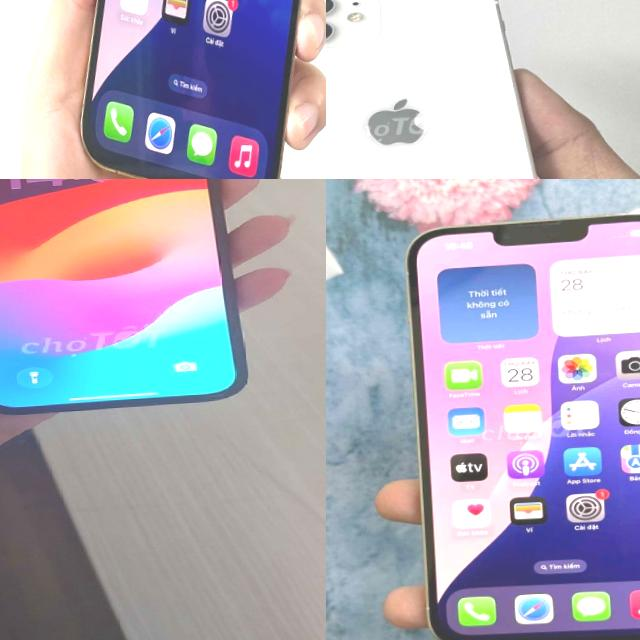gen_12_13: (392, 206, 640, 640), (326, 0, 606, 179), (53, 0, 326, 179)
gen_16: (0, 179, 245, 414)
